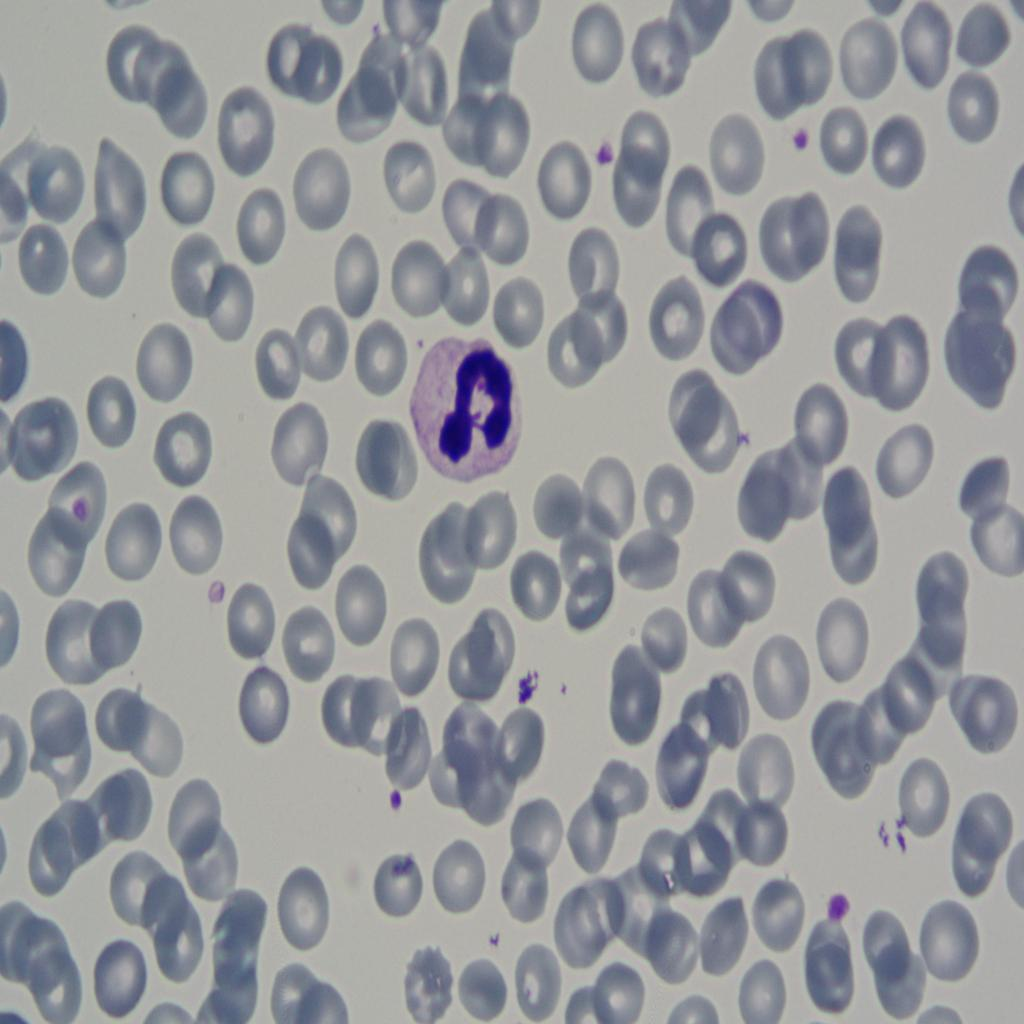Neutrofil: (410, 319, 524, 488)
Platelet: (788, 120, 826, 172), (590, 134, 630, 173), (824, 883, 860, 926), (510, 665, 540, 709), (66, 491, 94, 531), (383, 778, 408, 816), (478, 921, 498, 954)
